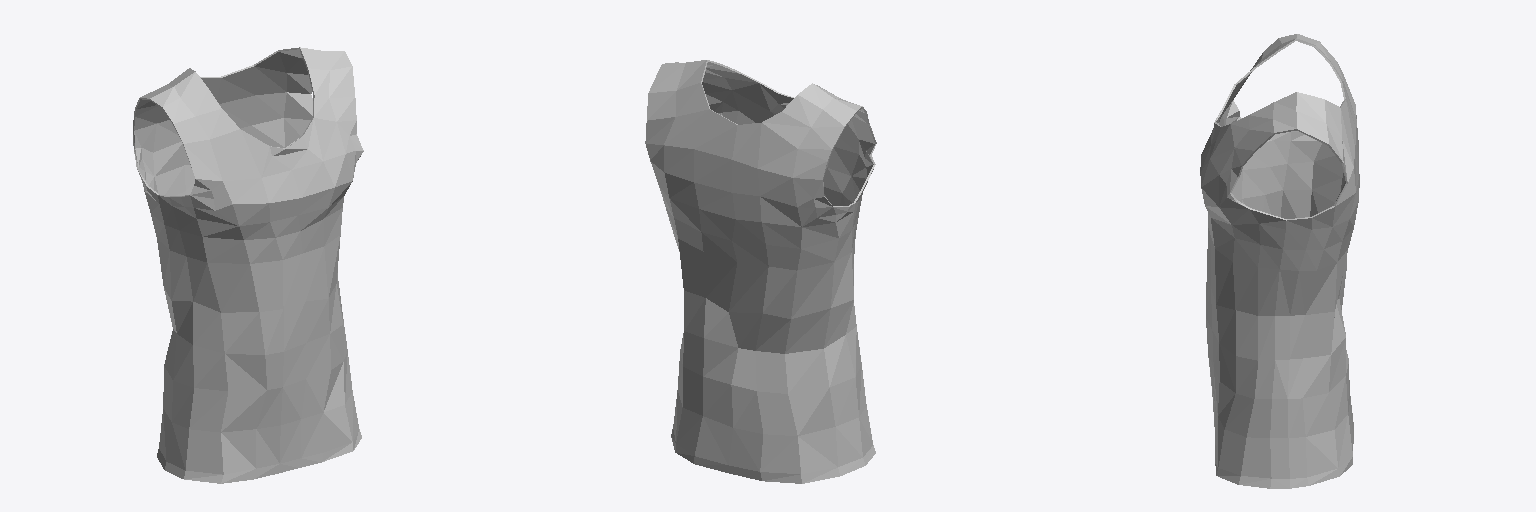
File: TanktopResize.obj
3 views of the same model, side by side, from view 1: azimuth 30°, elevation 25°; view 2: azimuth 150°, elevation 25°; view 3: azimuth 270°, elevation 25° (orthographic).
Parts seen in each view (by area): view 1: shirt_lp; view 2: shirt_lp; view 3: shirt_lp.
Part boxes in pixels (x1,y1,x2,y2): shirt_lp: (133,47,363,483); shirt_lp: (645,60,876,483); shirt_lp: (1200,34,1359,488).
Bounding box in the file's own units: 4.98 × 9.33 × 3.52.